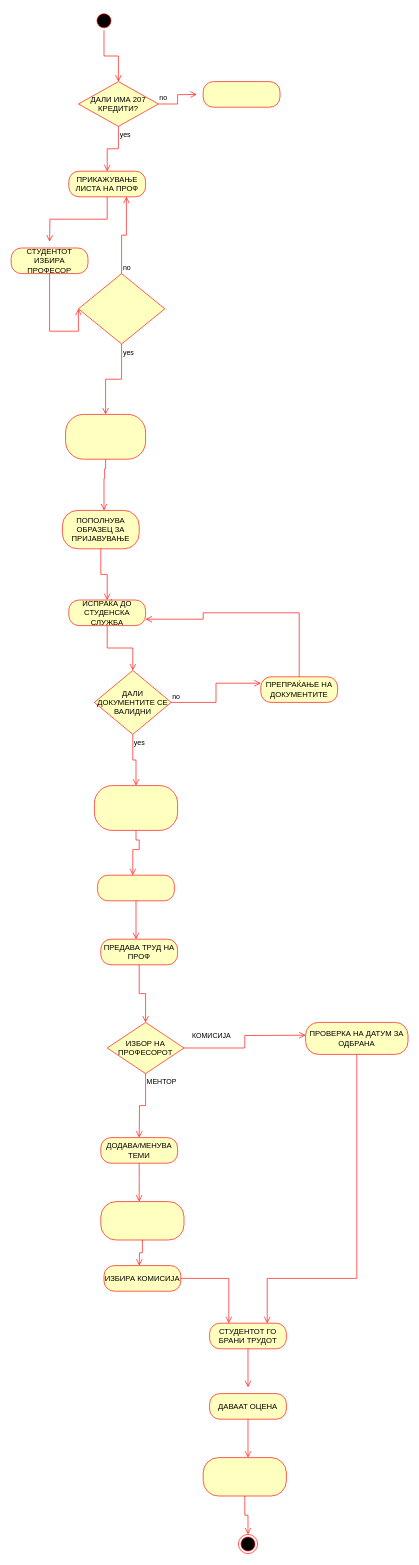
This 419x1565 diagram has some shape labels left out. The centre of each missing label's shape, as x and y in pixels:
"ДАЛИ ПРОФ ИМА СЛОБОДНА ТЕМА" goes at point 121,308.
"ЗАКАЖУВАЊЕ НА ДАТУМ ЗА ОДБРАНА" goes at point 142,1220.
"ИЗРАБОТУВА ТРУД" goes at point 135,888.
"ПРИКАЖУВАЊЕ ЛИСТА ННА СЛОБОДНИ ТЕМИ" goes at point 105,436.
"СЛУЖБАТА ПРАЌА ИЗВЕСТУВАЊЕ ЗА РОК" goes at point 136,807.
"СТУДЕНТОТ ДОБИВА ИЗВЕСТУВАЊЕ ЗА ОЦЕНАТА" goes at point 244,1476.
"ЌЕ БИДЕ ОДБИЕН" goes at point 241,94.
